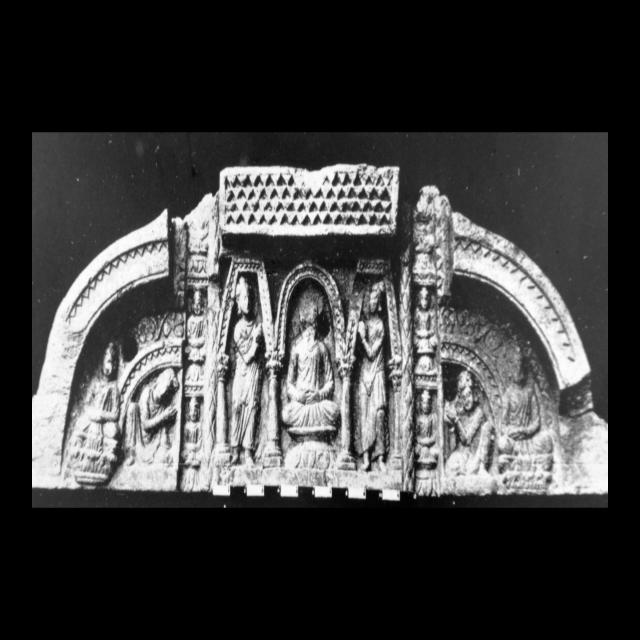buddha-sitting: (283, 287, 340, 469), (499, 349, 554, 491), (70, 342, 120, 487)
